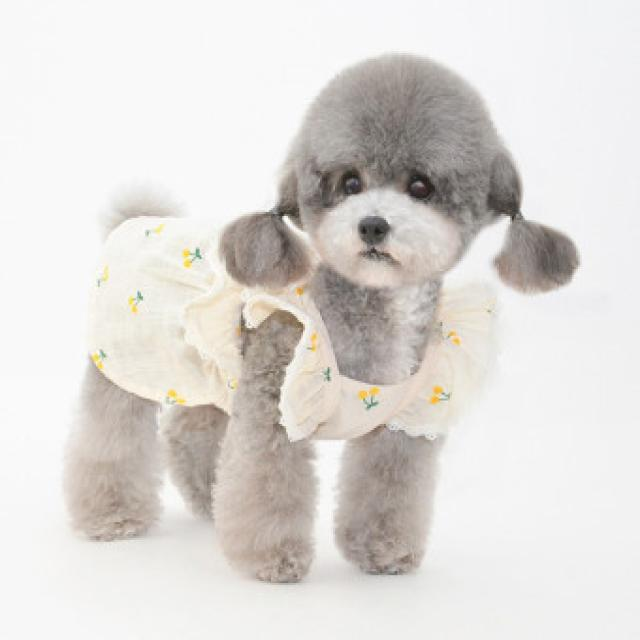cloth: (90, 216, 494, 440)
